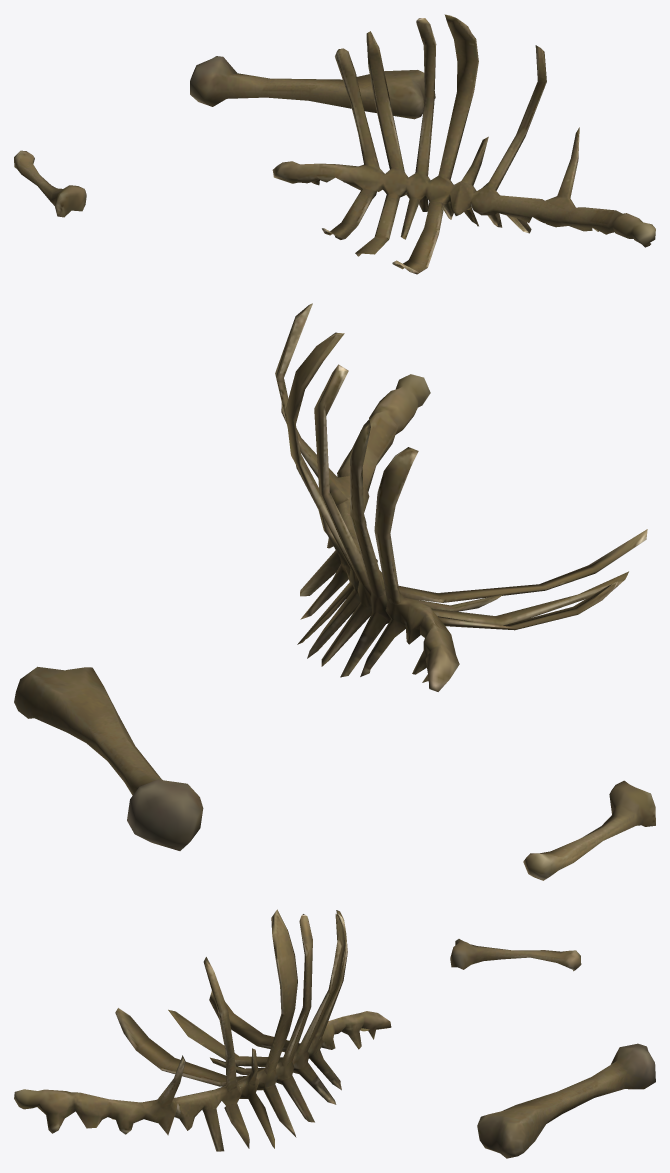
The model's file is badside_bones001.fbx.
The picture shows the model from 3 angles, top to bottom: view 1: azimuth 30°, elevation 25°; view 2: azimuth 150°, elevation 25°; view 3: azimuth 270°, elevation 25°; orthographic projection. The views are drawn at different scales.
Parts seen in each view (by area): view 1: badside_bones001; view 2: badside_bones001; view 3: badside_bones001.
Boxes of the visible parts, bbox=[...] form: badside_bones001: bbox=[14, 14, 655, 274]; badside_bones001: bbox=[14, 303, 655, 880]; badside_bones001: bbox=[14, 909, 655, 1158].
Size of the model in its own units: 14174 by 7332 by 19103.
